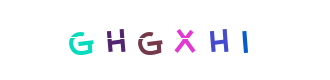G: (40, 0, 120, 80), (117, 0, 197, 80)
H: (94, 0, 174, 80), (145, 0, 225, 80)
I: (187, 0, 267, 80)
X: (125, 0, 205, 80)
